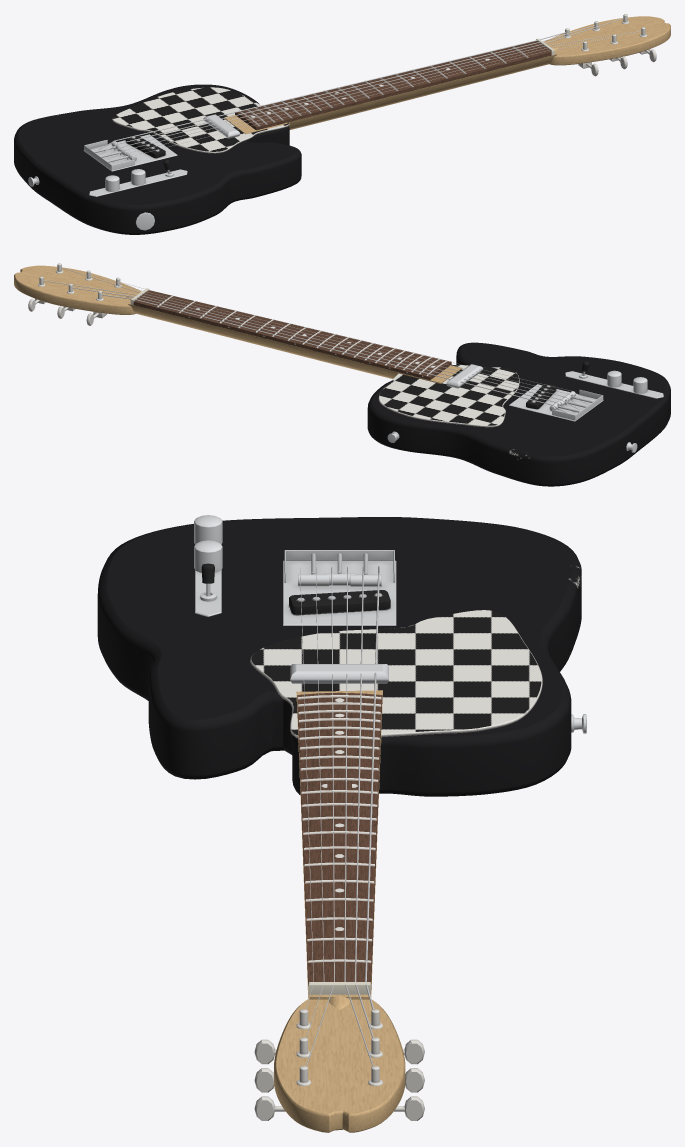
File: ska_guitar.glb
3 views of the same model, one above another, from view 1: azimuth 30°, elevation 25°; view 2: azimuth 150°, elevation 25°; view 3: azimuth 270°, elevation 25° (orthographic). The views are drawn at different scales.
Visible parts, largest first — view 1: gt_body, gt_neck, gt_guard, gt_hw, gt_strings, gt_tuners; view 2: gt_body, gt_neck, gt_guard, gt_hw, gt_strings, gt_tuners; view 3: gt_body, gt_neck, gt_guard, gt_hw, gt_strings, gt_tuners.
Boxes of the visible parts, bbox=[...] form: gt_body: bbox=[14, 84, 301, 234]; gt_neck: bbox=[224, 16, 670, 134]; gt_guard: bbox=[112, 87, 289, 153]; gt_hw: bbox=[28, 114, 240, 230]; gt_strings: bbox=[96, 18, 641, 162]; gt_tuners: bbox=[563, 14, 656, 76]; gt_body: bbox=[367, 342, 670, 486]; gt_neck: bbox=[14, 265, 462, 383]; gt_guard: bbox=[378, 364, 519, 427]; gt_hw: bbox=[387, 361, 663, 452]; gt_strings: bbox=[43, 267, 588, 413]; gt_tuners: bbox=[28, 263, 121, 325]; gt_body: bbox=[97, 517, 581, 796]; gt_neck: bbox=[274, 690, 405, 1132]; gt_guard: bbox=[250, 610, 542, 738]; gt_hw: bbox=[194, 515, 586, 733]; gt_strings: bbox=[300, 566, 379, 1066]; gt_tuners: bbox=[254, 1009, 424, 1120].
Size of the model in its own units: 0.9683 by 0.0694 by 0.3277.
2 materials, 1 textured.
